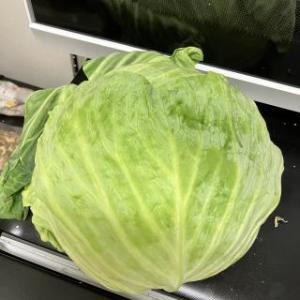cabbage: (0, 45, 286, 297)
